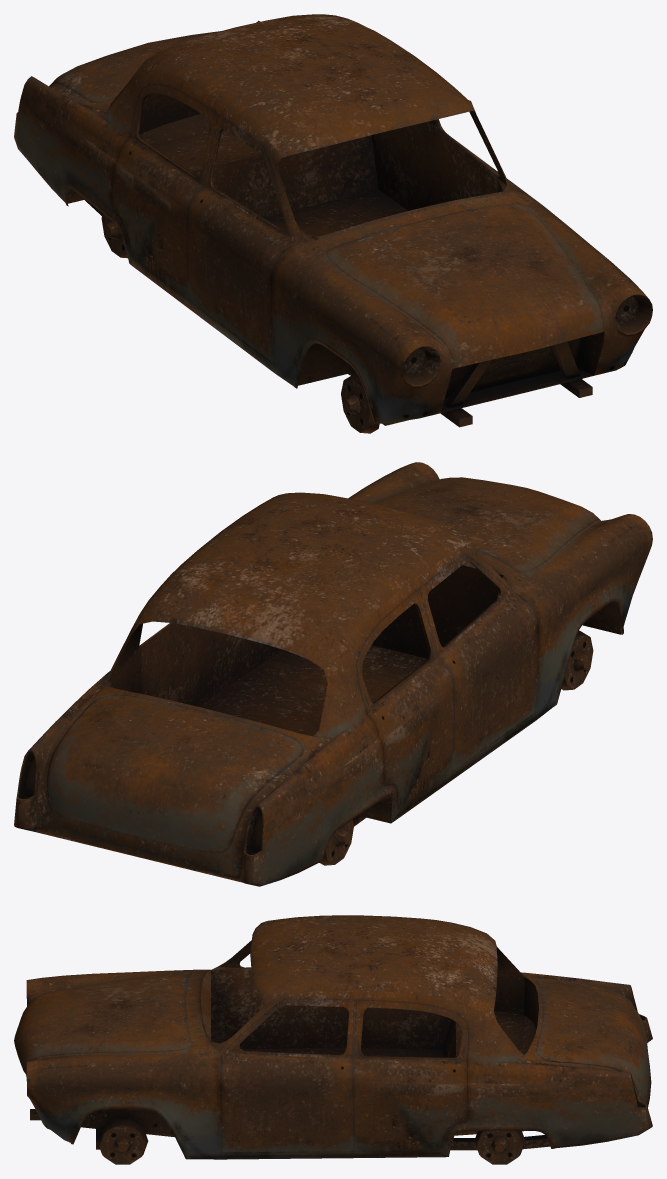
The model's file is old_car_wreck.glb.
The picture shows the model from 3 angles, top to bottom: view 1: azimuth 30°, elevation 25°; view 2: azimuth 150°, elevation 25°; view 3: azimuth 270°, elevation 25°; orthographic projection. The views are drawn at different scales.
Parts seen in each view (by area): view 1: Object005_Material #107_0; view 2: Object005_Material #107_0; view 3: Object005_Material #107_0.
Part boxes in pixels (left/top/right/bottom): Object005_Material #107_0: left=14, top=14, right=652, bottom=433; Object005_Material #107_0: left=14, top=462, right=652, bottom=886; Object005_Material #107_0: left=14, top=915, right=652, bottom=1164.
Bounding box in the file's own units: 71.3 × 57.19 × 182.
1 material, 1 textured.
